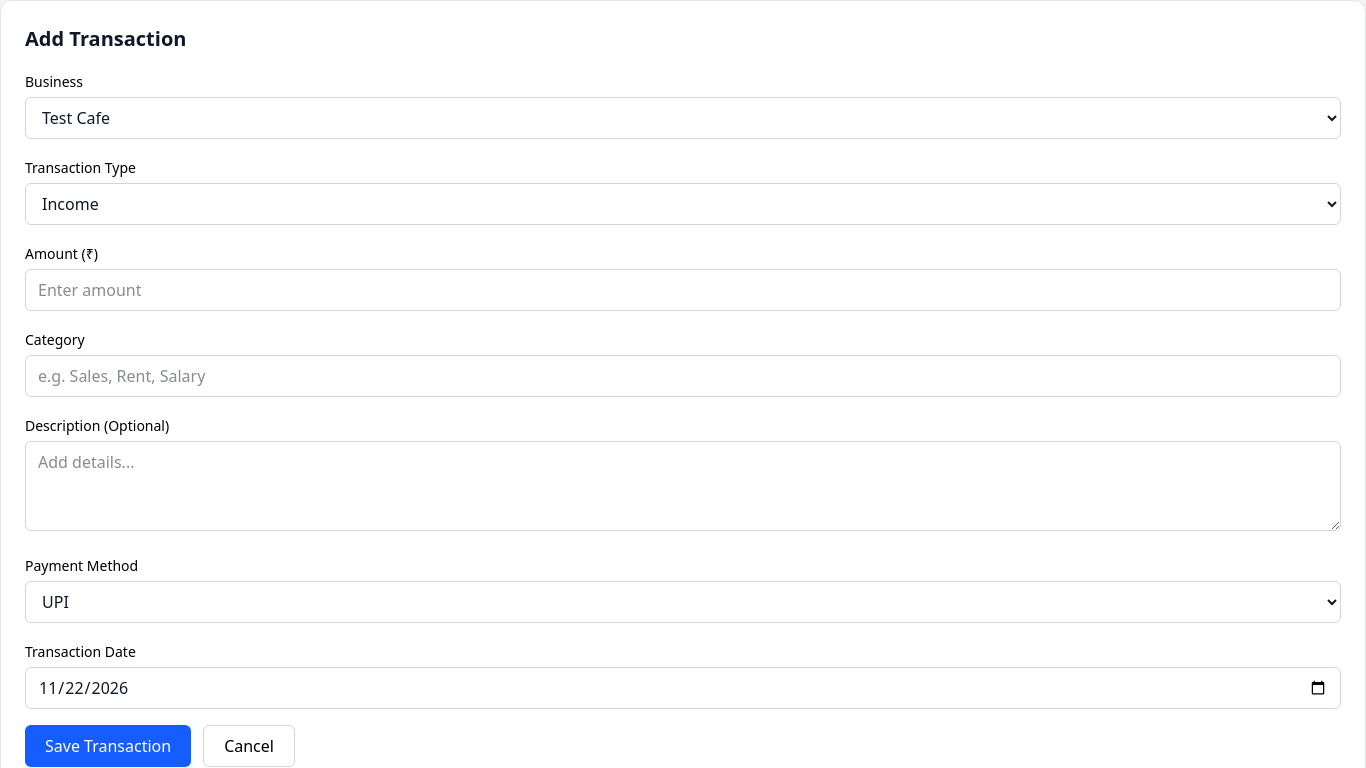
it: TransactionForm › displays an API error when saving fails
Type "500" into the number field labelled "Amount (₹)".
click(683, 290); type("500")  # box [25,269,1341,311]
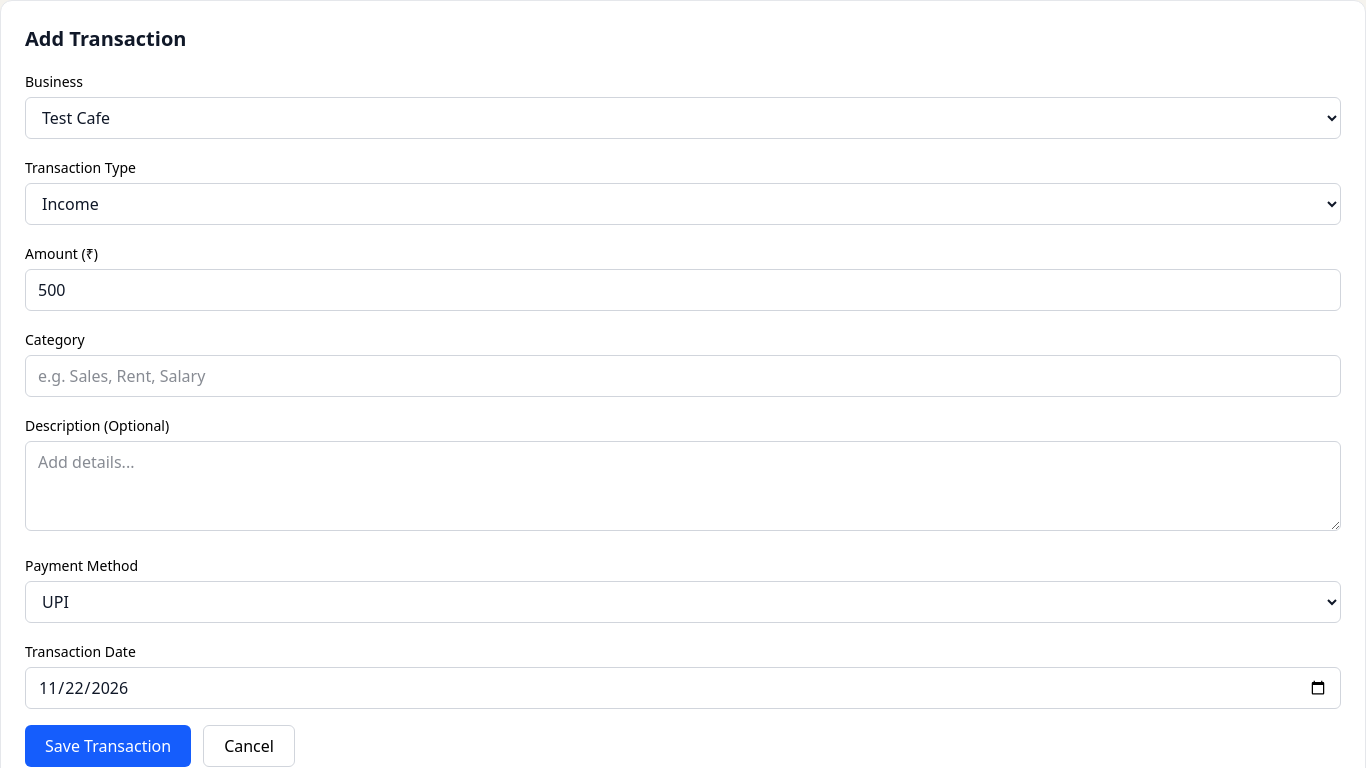
Type "Sales" into the field labelled "Category".
click(683, 376); type("Sales")  # box [25,355,1341,397]
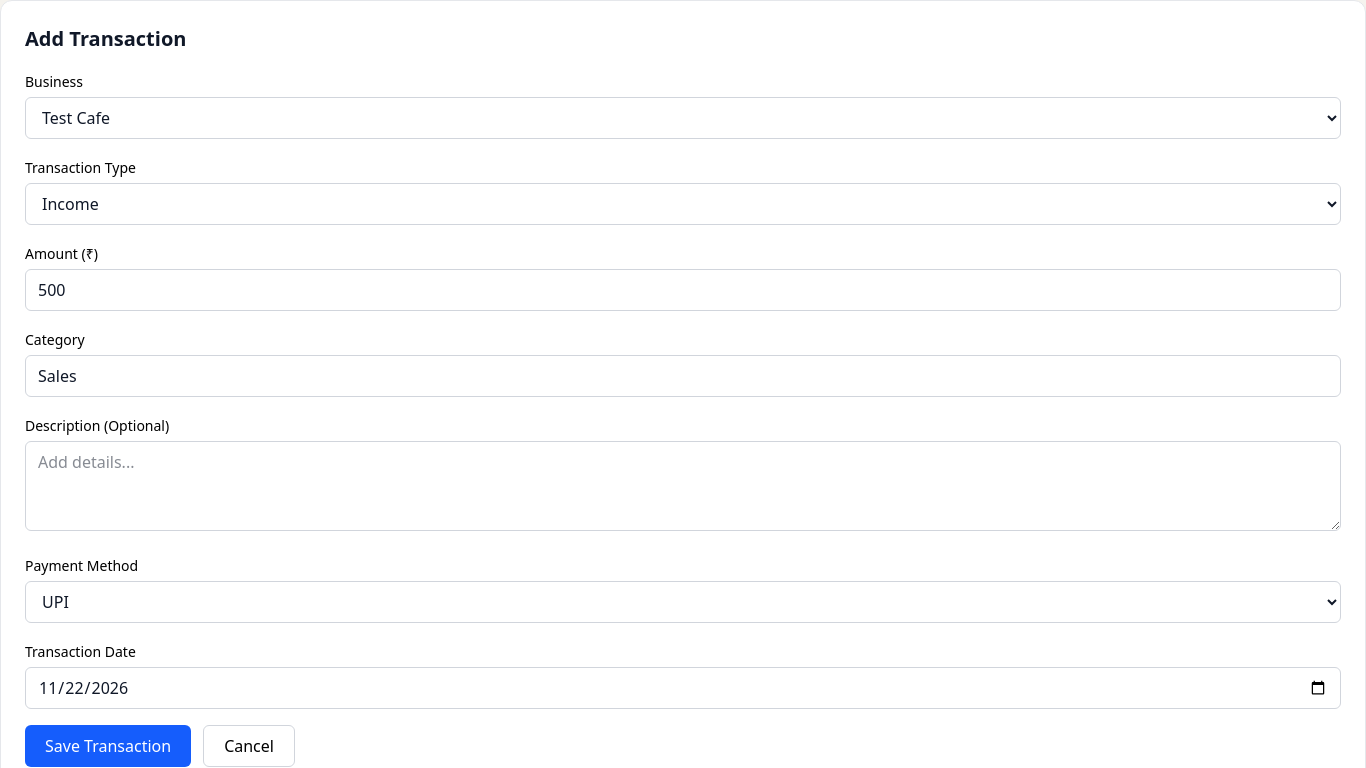
Click the button "Save Transaction".
click(108, 746)  # box [25,725,191,767]
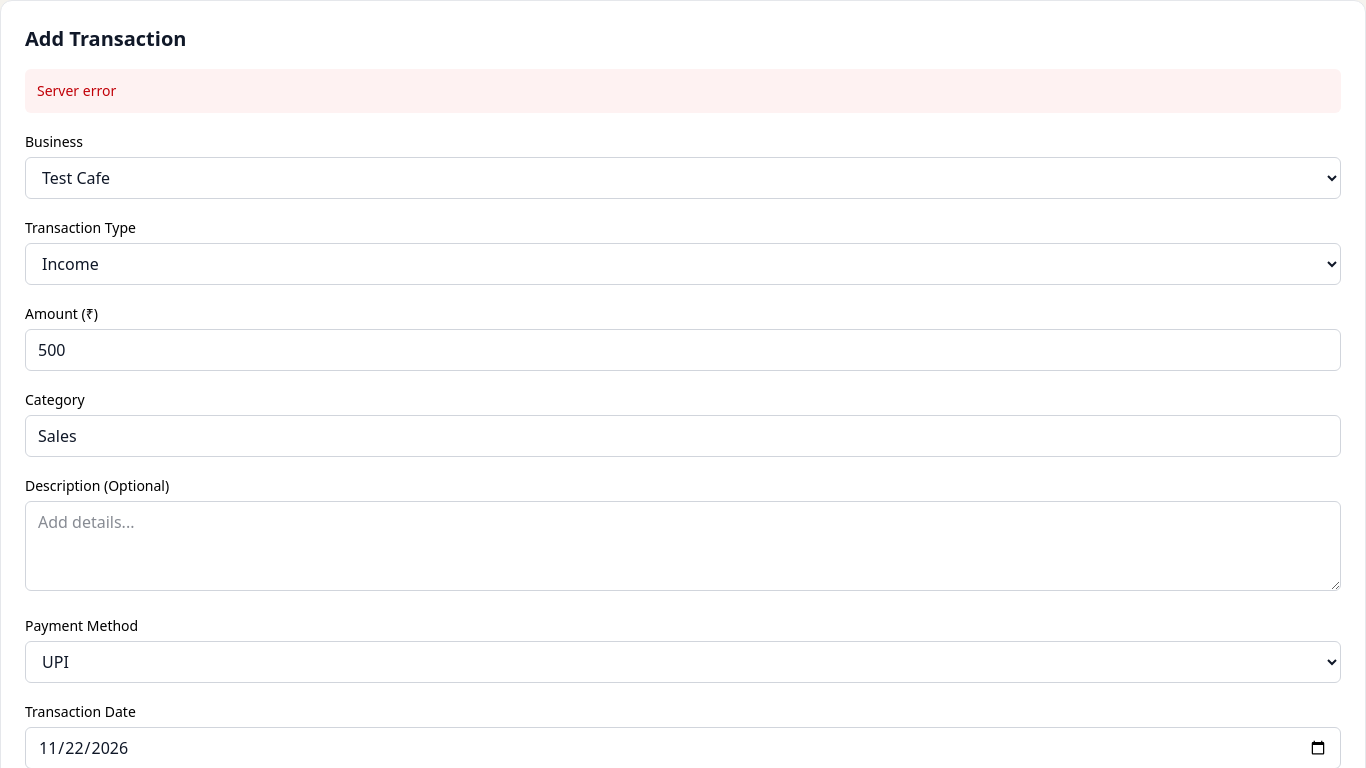
Expected: the message reads "Server error", [37,81,116,100]
